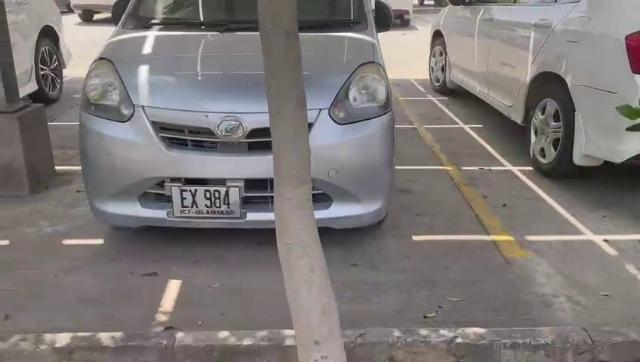plate: (173, 186, 244, 219)
